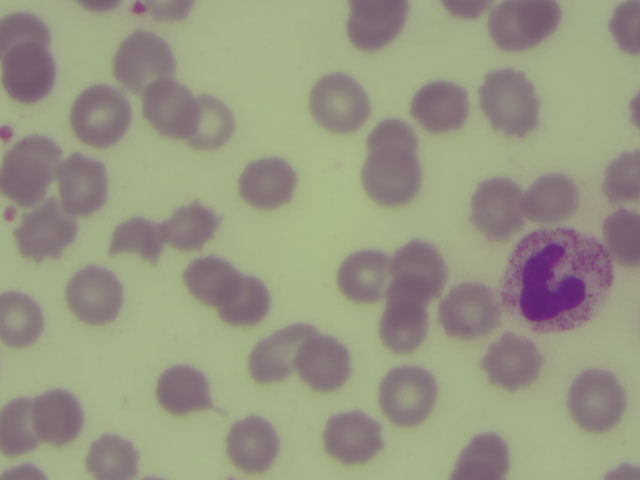Platelets: (4, 124, 17, 142), (132, 2, 145, 17), (5, 206, 16, 221)
RBC: (479, 71, 549, 137), (363, 145, 423, 211), (310, 74, 371, 135), (119, 37, 178, 96), (478, 334, 542, 388), (236, 157, 299, 211), (473, 176, 528, 237), (77, 86, 131, 148), (574, 370, 626, 434), (385, 368, 437, 431), (26, 197, 77, 261), (225, 412, 282, 469), (493, 3, 561, 50), (412, 79, 470, 133), (61, 155, 112, 216), (329, 412, 385, 467), (257, 319, 311, 374), (73, 270, 125, 327), (438, 287, 495, 337), (150, 79, 197, 138), (8, 44, 56, 101), (160, 364, 214, 414), (185, 257, 241, 305), (306, 336, 353, 393), (339, 252, 389, 305), (169, 200, 225, 247), (1, 289, 47, 346), (377, 297, 427, 349), (397, 242, 445, 294), (533, 172, 581, 223), (2, 153, 50, 204), (195, 93, 234, 155), (1, 16, 50, 65), (117, 217, 166, 265), (602, 1, 640, 62), (41, 389, 82, 445), (461, 435, 510, 480), (346, 15, 404, 52), (93, 433, 138, 480), (5, 402, 45, 453), (233, 272, 271, 325), (386, 273, 432, 310), (611, 149, 640, 202), (377, 119, 417, 155), (30, 136, 64, 175), (344, 2, 411, 20), (437, 1, 487, 20), (158, 3, 197, 26), (4, 463, 54, 480), (596, 461, 640, 480), (84, 1, 118, 19), (629, 92, 640, 136)
WBC: (501, 229, 613, 328)
